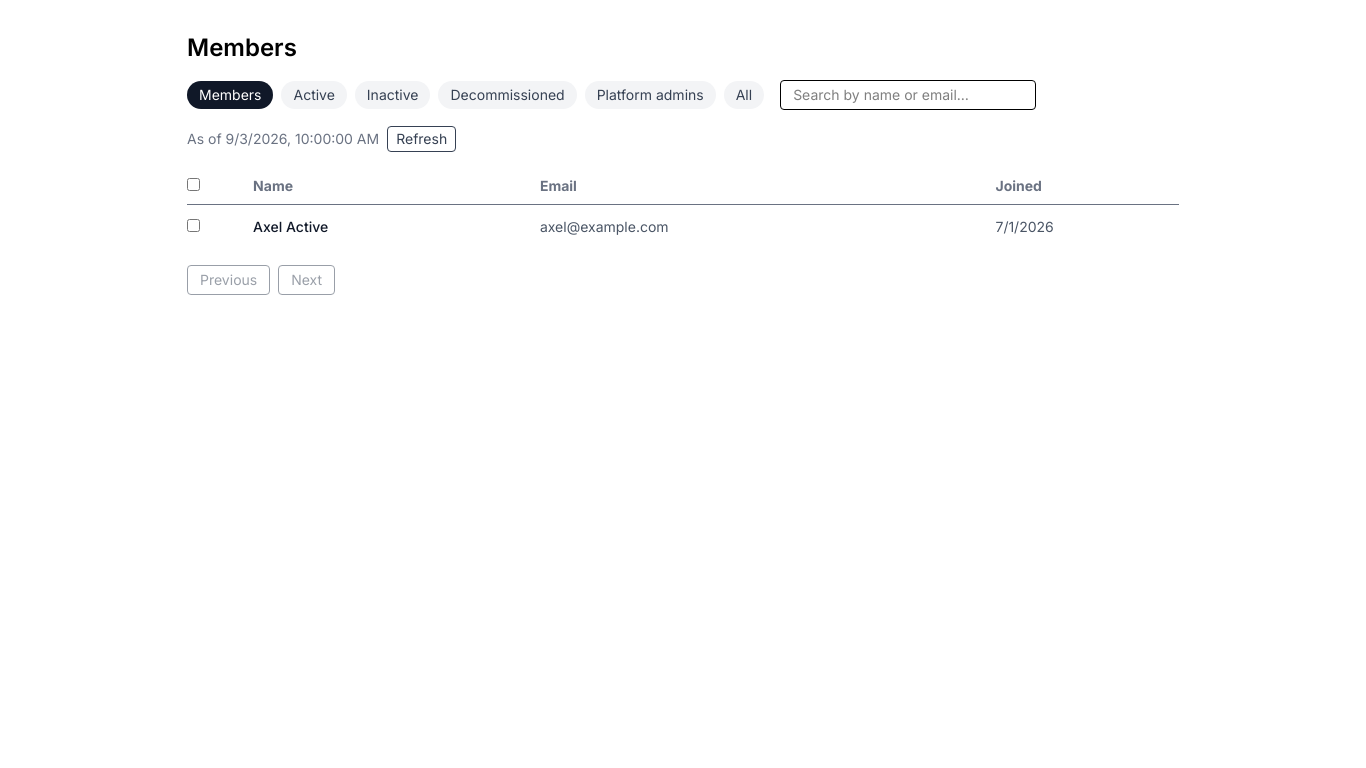
Test: AdminMembersList — the bulk hold ceremony carries one reason (FEAT-H049, bulk gap) › bulk-suspend: reason field "Shown to each member", Confirm gated, POST { user_ids, reason }
This screenshot has width=1366, height=768.
Click the checkbox named "Select Axel Active" at (194, 226), box [187, 219, 200, 232]
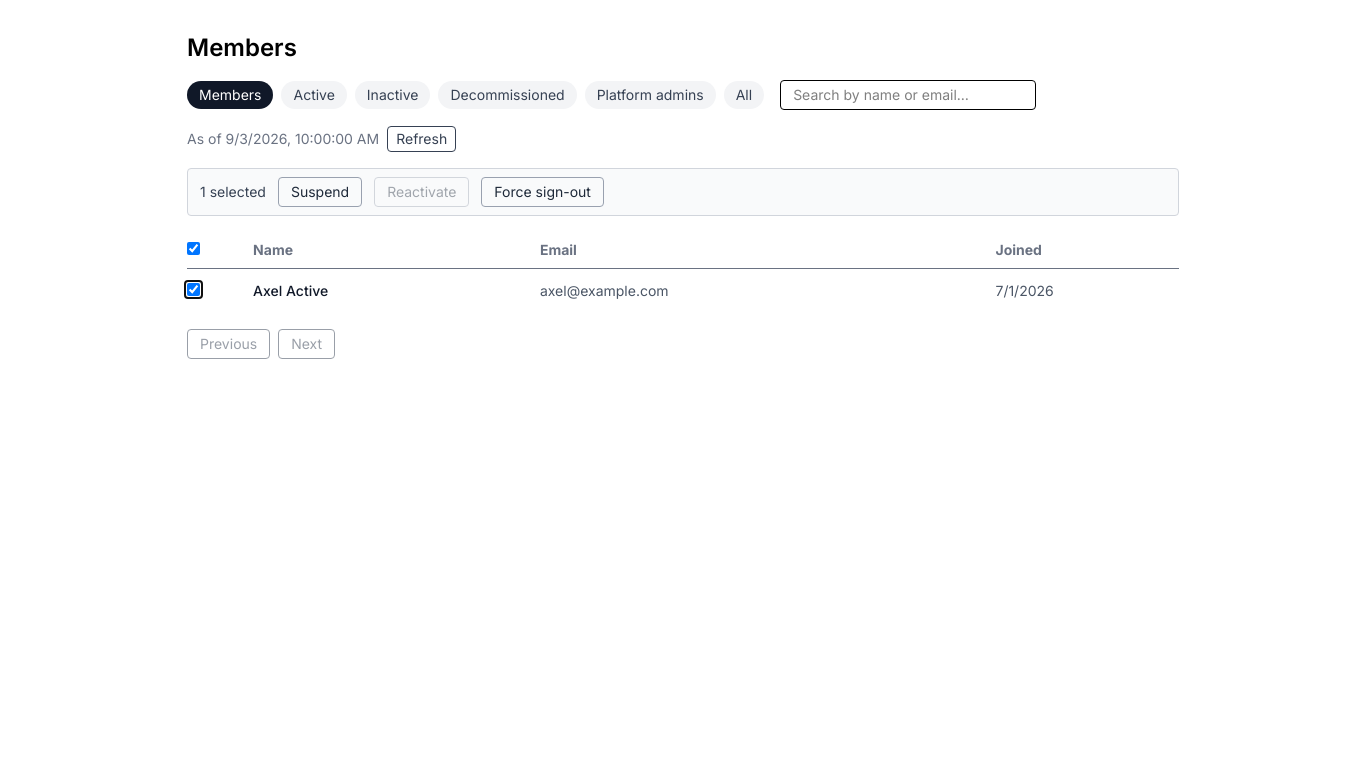
Click the button with test id "bulk-suspend" at (320, 192), box [278, 177, 362, 207]
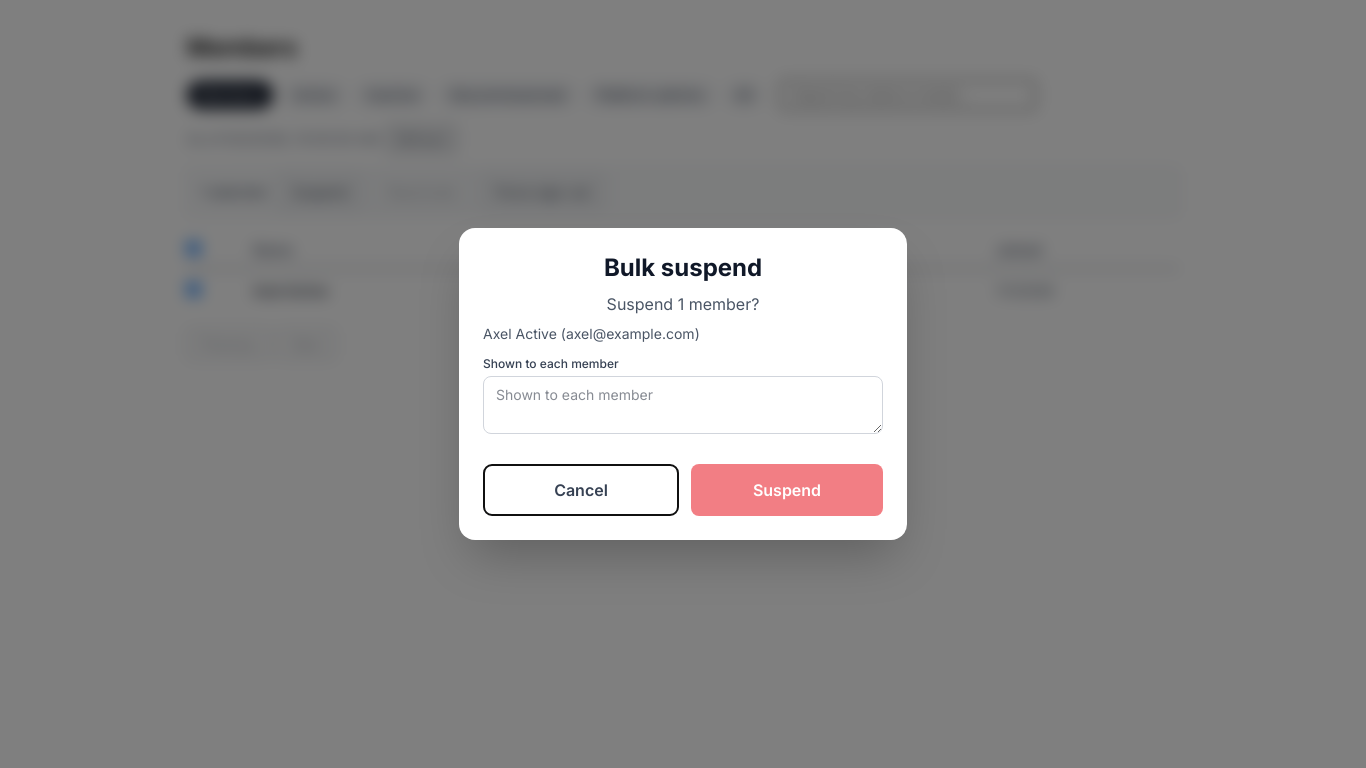
Expected: the button with test id "confirm-modal-confirm" is disabled, [691, 464, 883, 516]
Type "Batch hold" into the text box with test id "ceremony-reason" at (683, 405), box [483, 376, 883, 434]
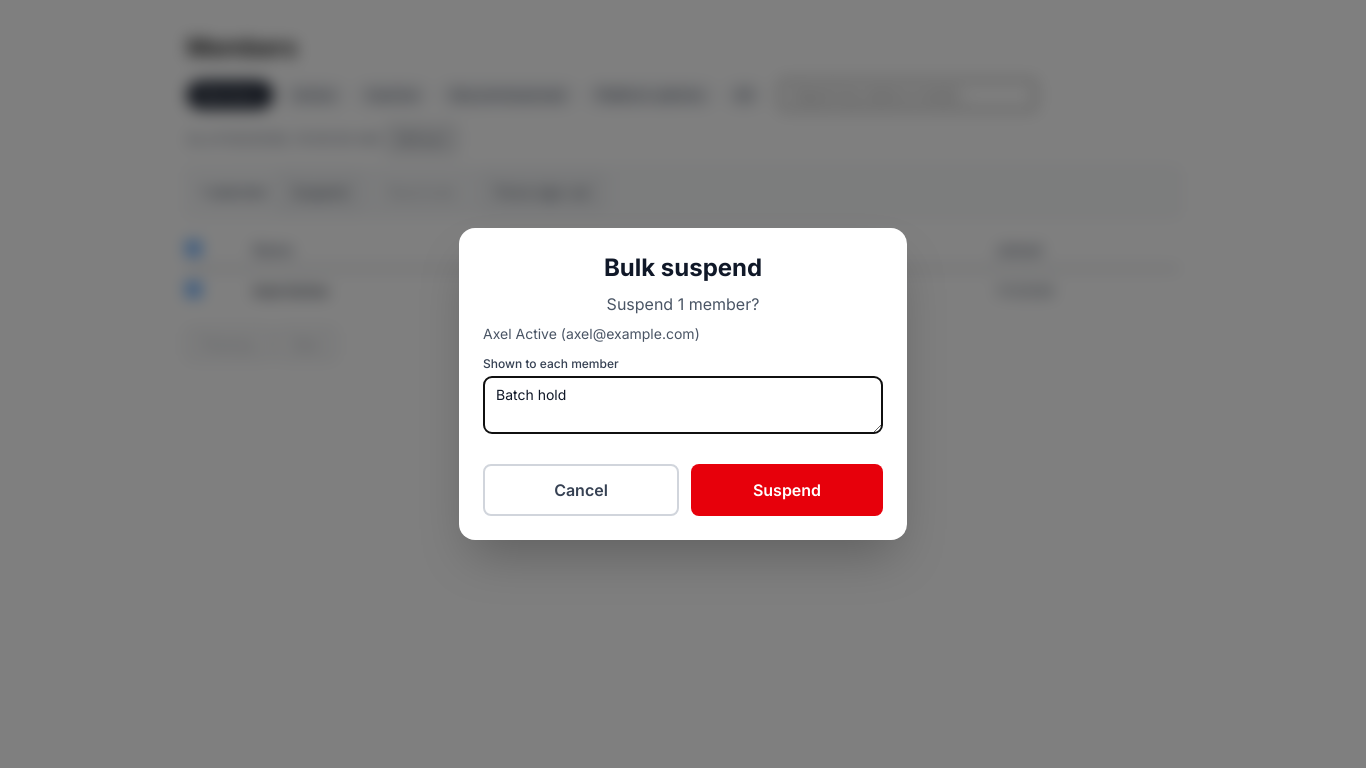
Expected: the button with test id "confirm-modal-confirm" is enabled
Click the button with test id "confirm-modal-confirm" at (787, 490), box [691, 464, 883, 516]
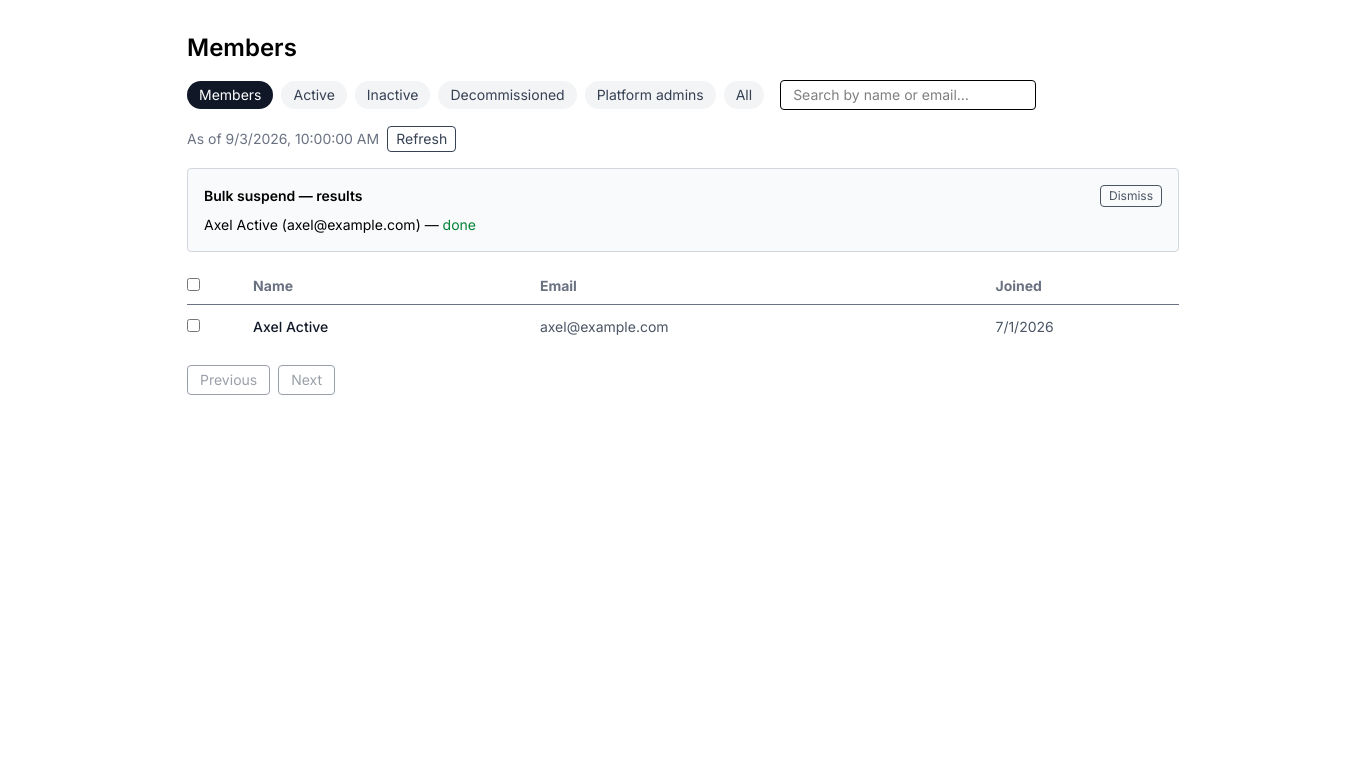
Expected: the element with test id "bulk-outcomes" is shown, [187, 168, 1179, 252]
